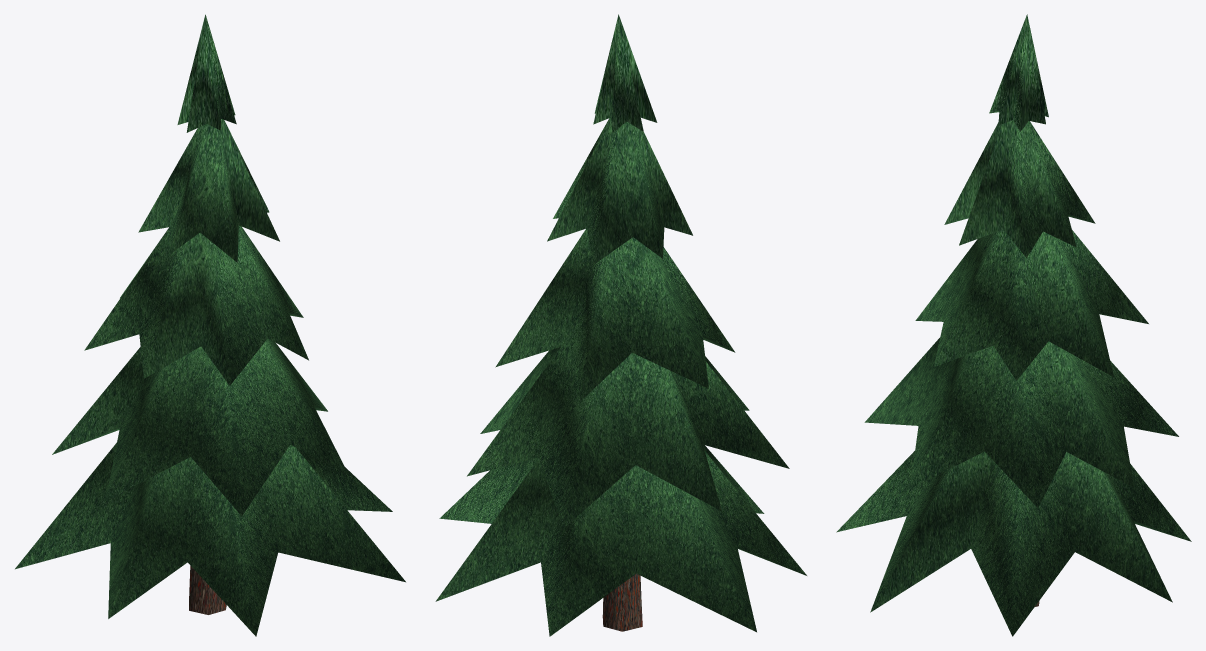
File: fir_1_lod1.glb
3 renders of one model, left to right at view 1: azimuth 30°, elevation 25°; view 2: azimuth 150°, elevation 25°; view 3: azimuth 270°, elevation 25°, orthographic. The views are drawn at different scales.
Visible parts, largest first — view 1: fir_1_lod1; view 2: fir_1_lod1; view 3: fir_1_lod1.
Part boxes in pixels (box(x1,y1,x2,y2)): fir_1_lod1: box(15, 14, 405, 636); fir_1_lod1: box(435, 14, 806, 636); fir_1_lod1: box(836, 14, 1191, 636).
Bounding box in the file's own units: 5.84 × 9.6 × 5.27.
Materials: 2 (2 with a texture image).
